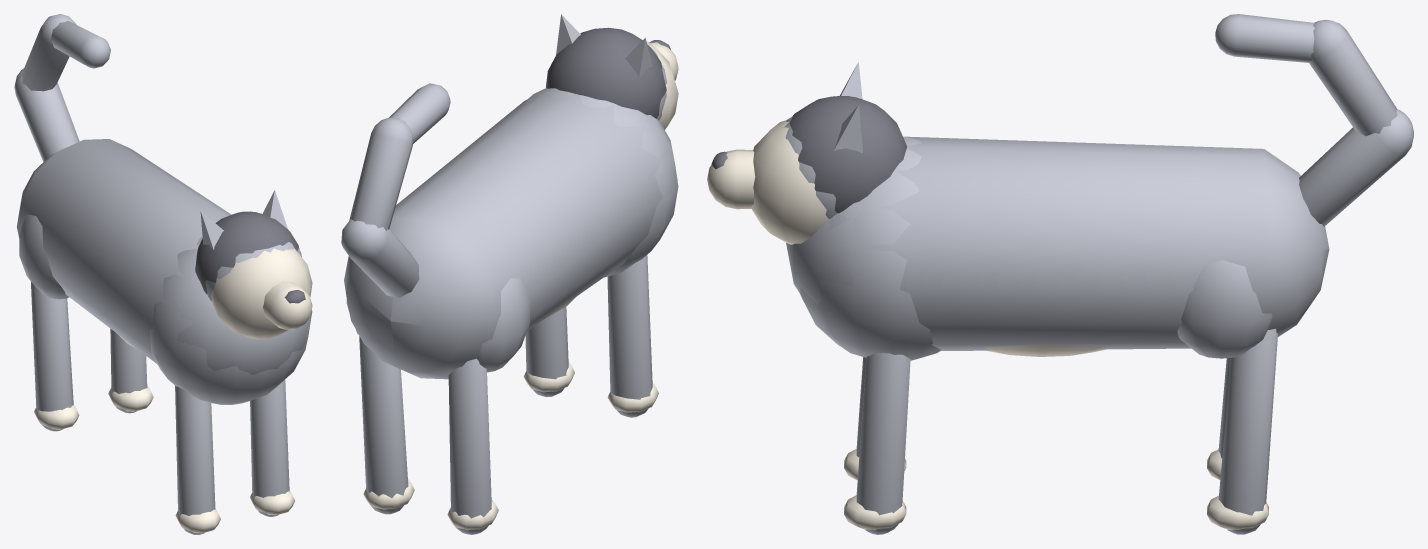
Rendered from companion-animals-and-pet-home-dog-husky-bd396caf__20595.glb.
The picture shows the model from 3 angles, left to right: view 1: azimuth 30°, elevation 25°; view 2: azimuth 150°, elevation 25°; view 3: azimuth 270°, elevation 25°; orthographic projection. The views are drawn at different scales.
Visible parts, largest first — view 1: dog-husky; view 2: dog-husky; view 3: dog-husky.
Part boxes in pixels (left/top/right/bottom): dog-husky: left=14, top=14, right=312, bottom=534; dog-husky: left=341, top=14, right=678, bottom=534; dog-husky: left=707, top=14, right=1413, bottom=534.
Size of the model in its own units: 0.308 by 0.7627 by 0.9916.
